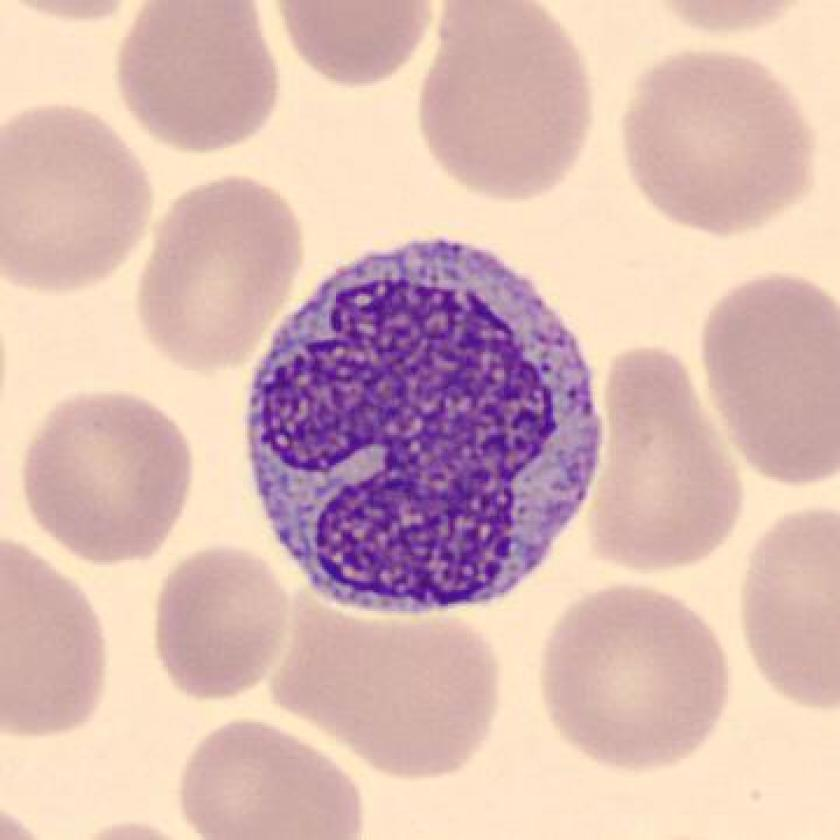monocyte: (223, 223, 622, 628)
